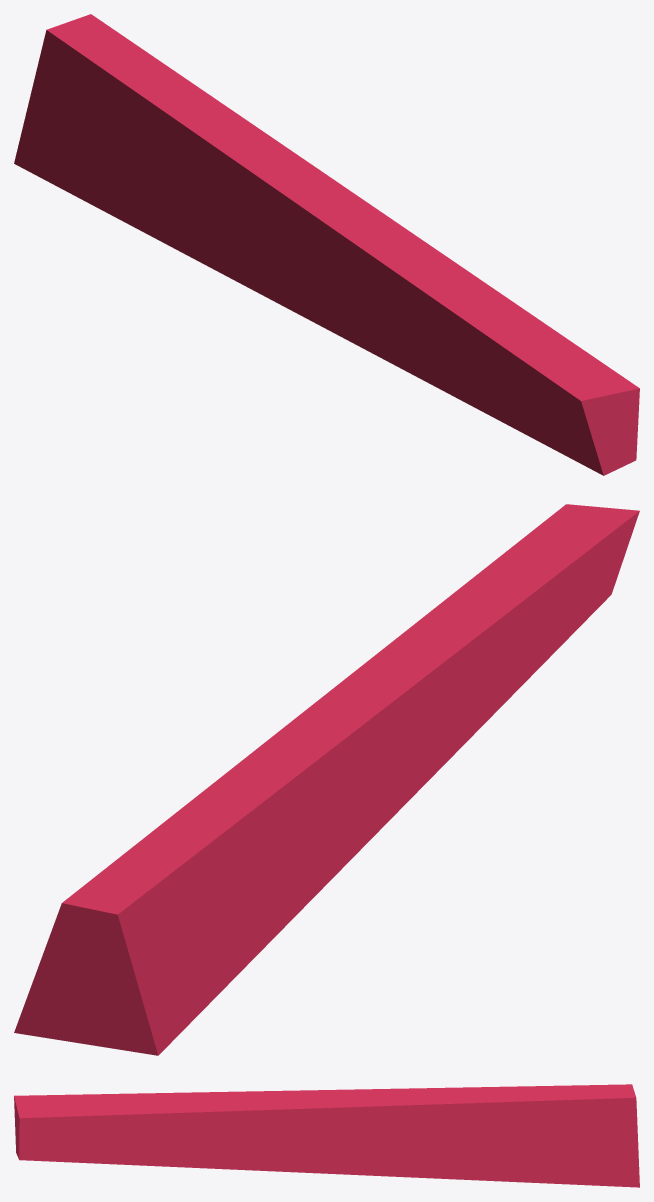
Rendered from bullet.glb.
The picture shows the model from 3 angles, top to bottom: view 1: azimuth 30°, elevation 25°; view 2: azimuth 150°, elevation 25°; view 3: azimuth 270°, elevation 25°; orthographic projection. The views are drawn at different scales.
Parts seen in each view (by area): view 1: Cube; view 2: Cube; view 3: Cube.
Boxes of the visible parts, <box> form: Cube: <box>14,14,639,475</box>; Cube: <box>14,504,639,1055</box>; Cube: <box>14,1084,639,1187</box>.
Bounding box in the file's own units: 0.1396 × 0.1364 × 0.9971.
